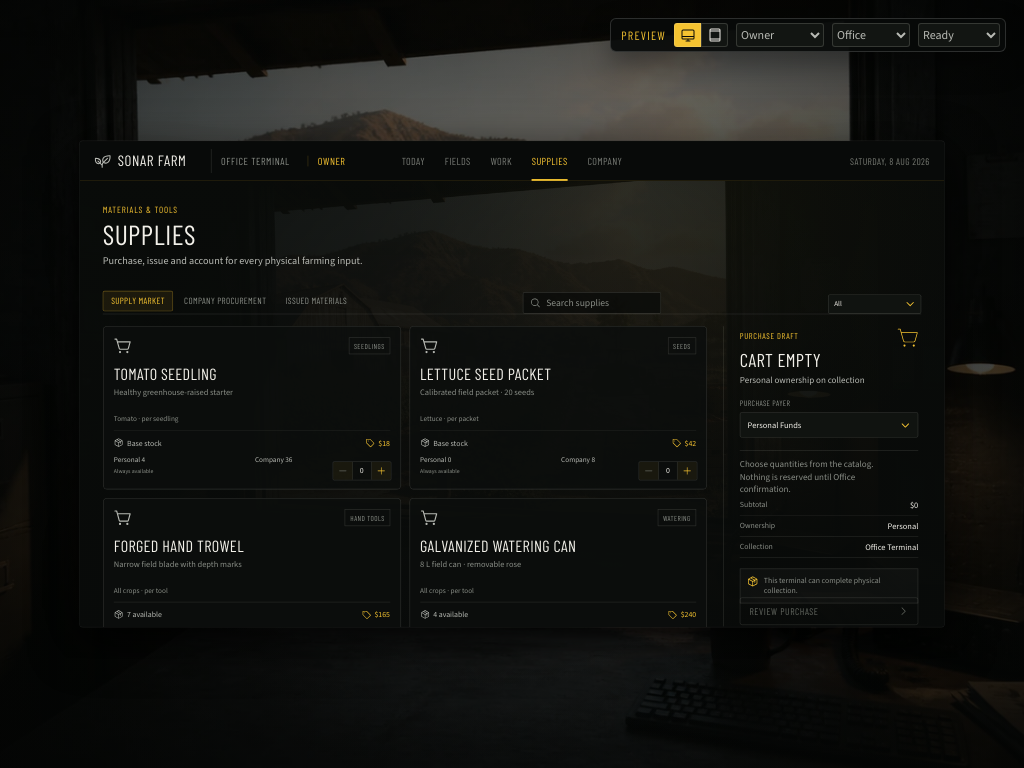
Test case: Farm Business Hub › preserves a purchase draft while Tablet blocks physical confirmation
The width and height of the screenshot is (1024, 768).
Click the button named "Add Tomato Seedling".
click(381, 471)  # box [371,462,390,480]
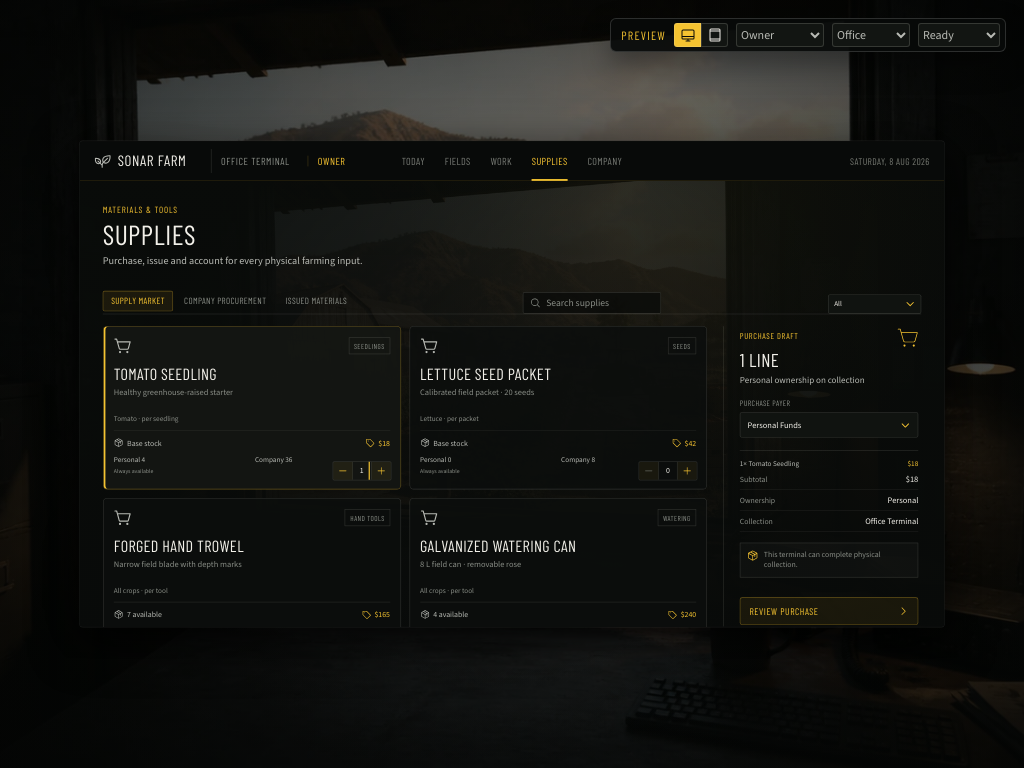
Click the button "Review Purchase".
click(829, 611)  # box [740,597,918,625]
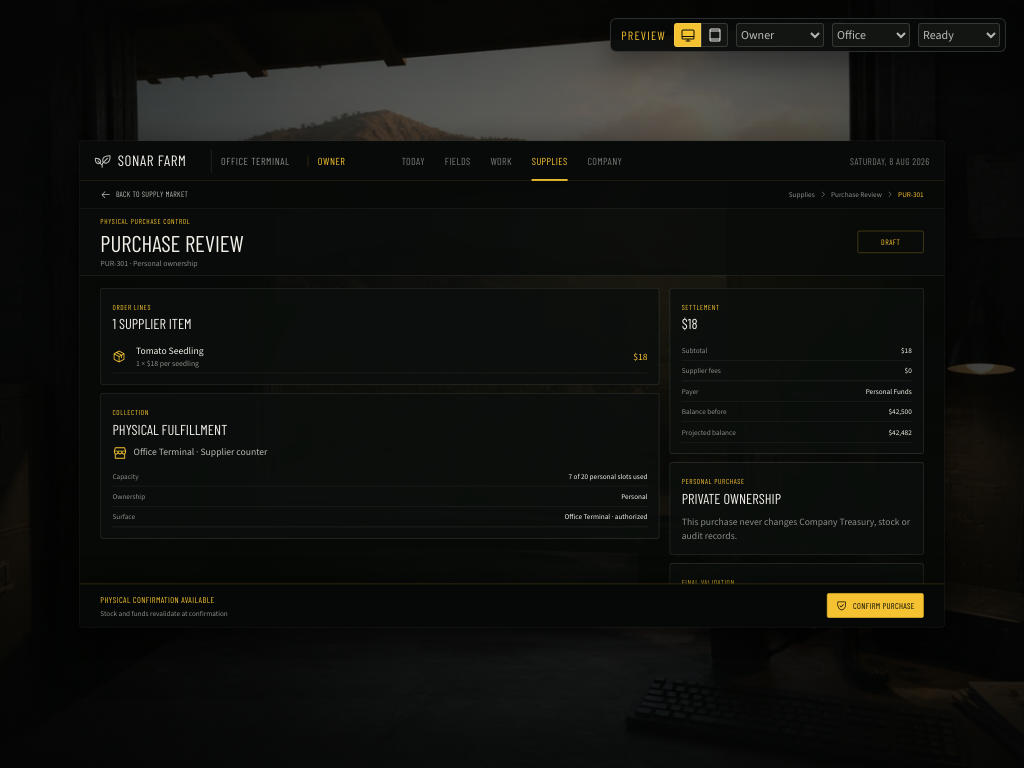
Result: the heading "Purchase Review" is shown at [100,232,244,254]
Click the button named "Farm Tablet".
click(714, 35)  # box [701,23,728,47]
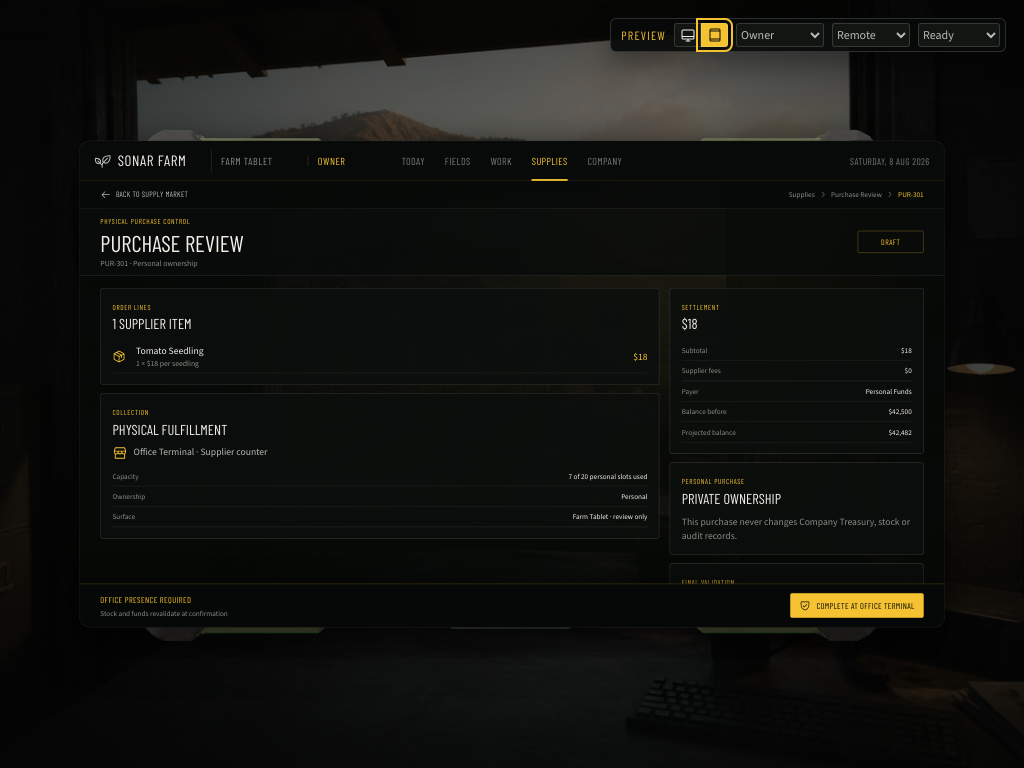
Click the button "Complete at Office Terminal".
click(857, 606)  # box [791,593,924,618]
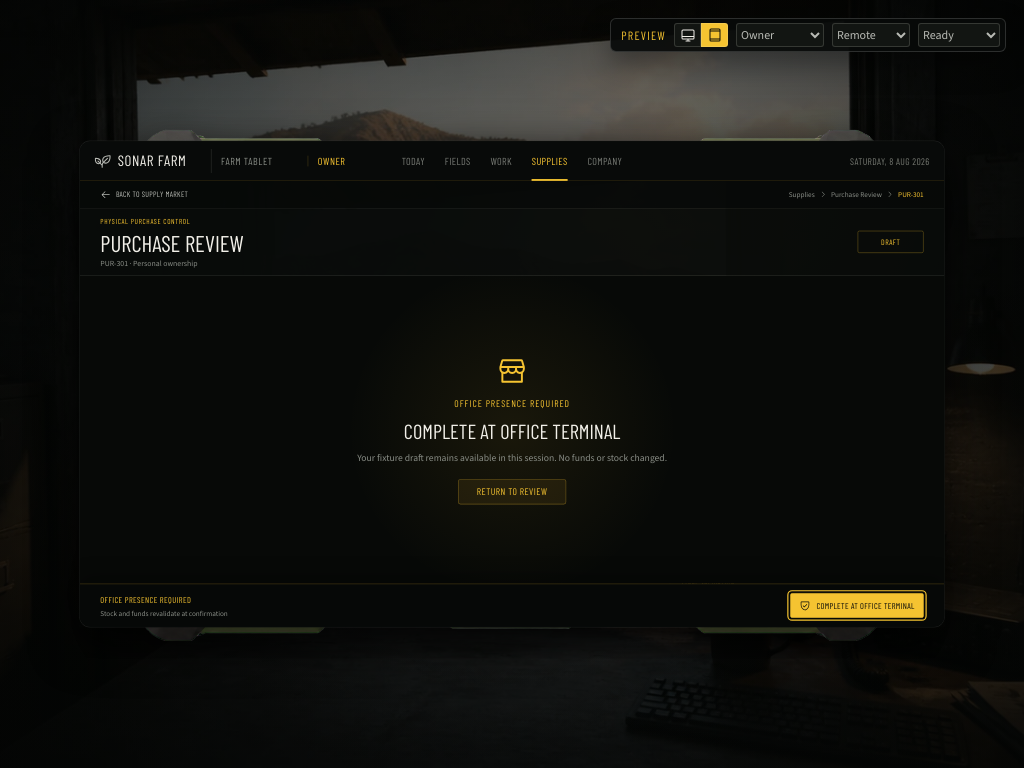
Result: the heading "Complete at Office Terminal" is shown at [404,415,620,446]
Result: the text "No funds or stock changed" is shown at [357,451,667,463]
